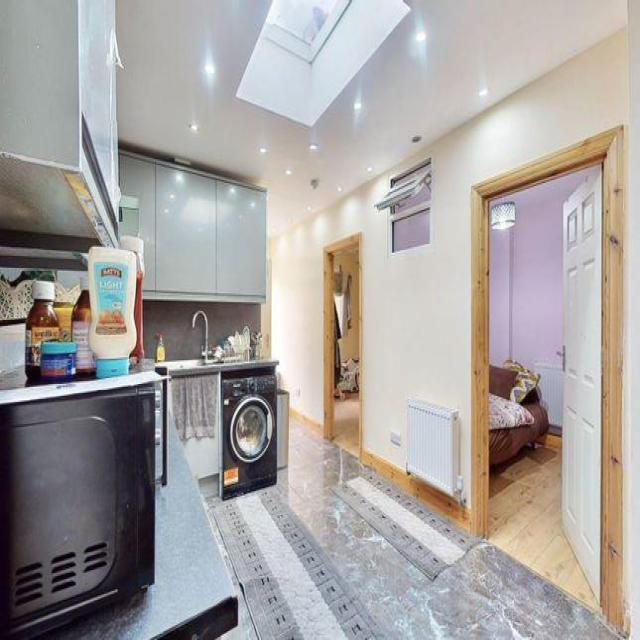Wall: (269, 0, 640, 632), (116, 0, 627, 235), (205, 396, 615, 638), (490, 201, 563, 368), (144, 300, 261, 361), (505, 170, 596, 207)
